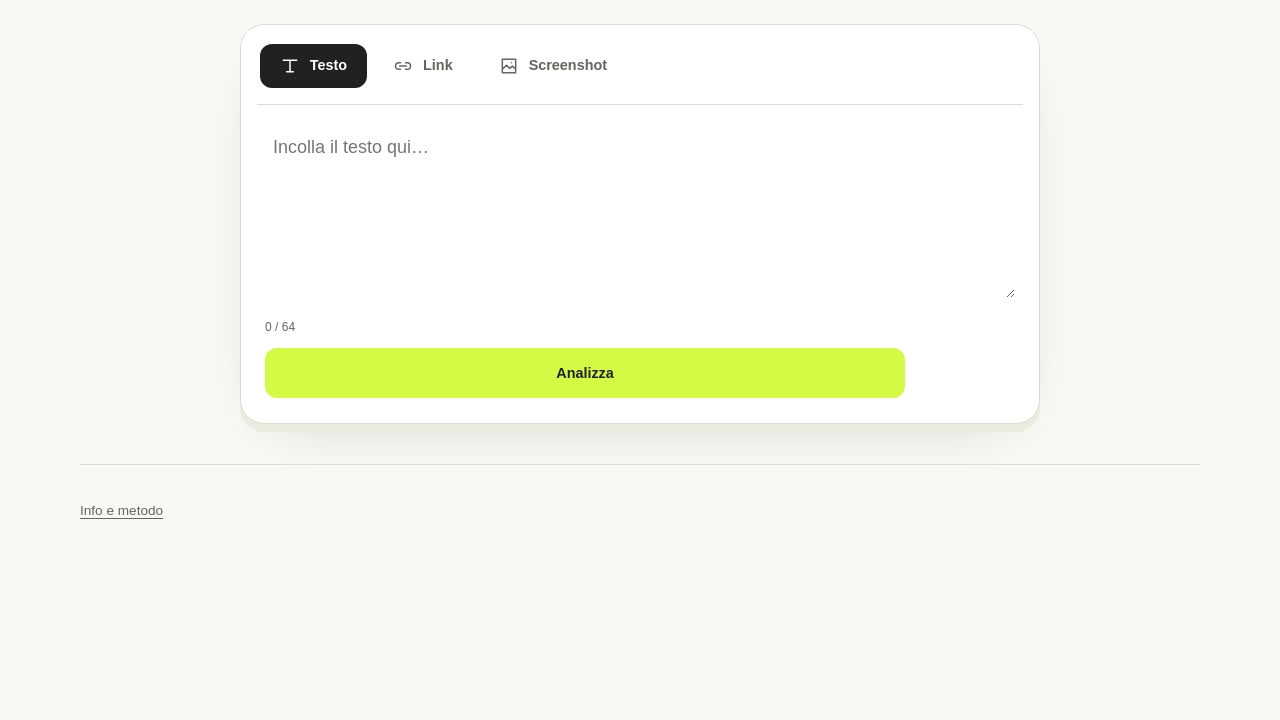
Test case: one-shot text flow › shows unavailable without a result, share or automatic retry in it
This screenshot has width=1280, height=720.
Type " Visible text 👋 " into the text box at (640, 212), box [265,125,1015,298]
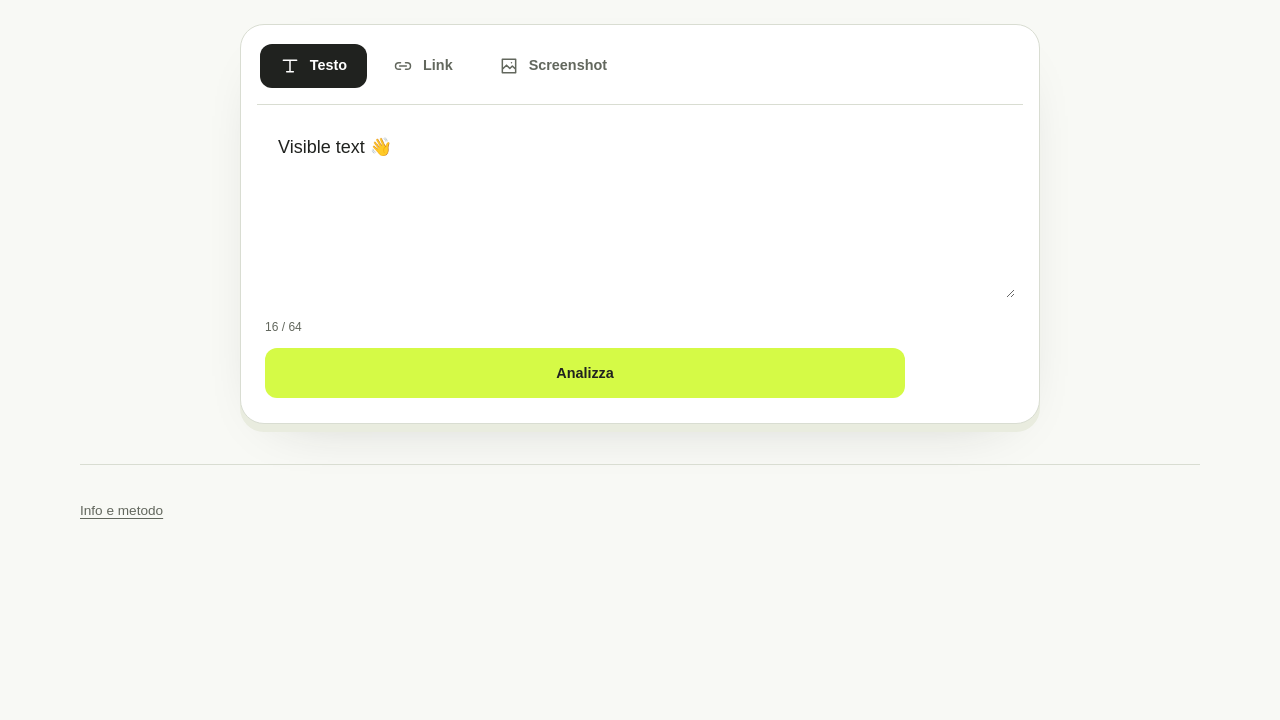
Click the button "Analizza" at (585, 373), box [265,348,905,398]
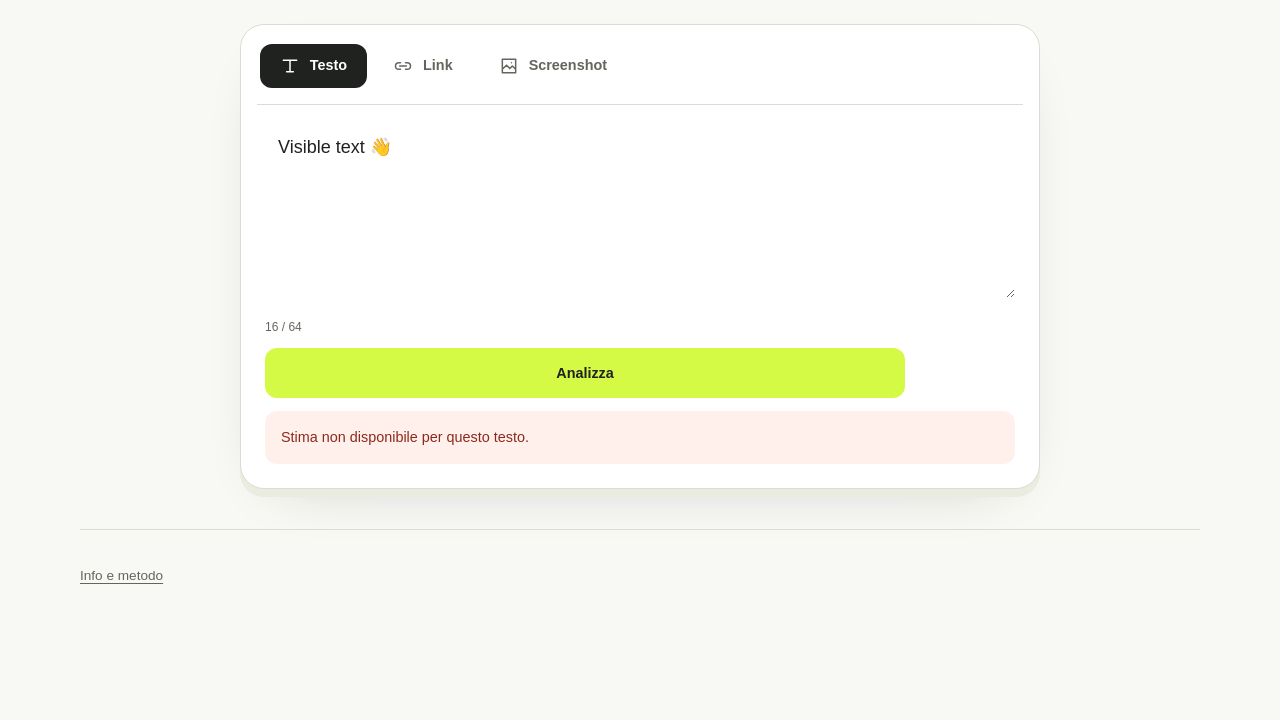
Now the message reads "Stima non disponibile per questo testo.", box [281,429,529,445]
